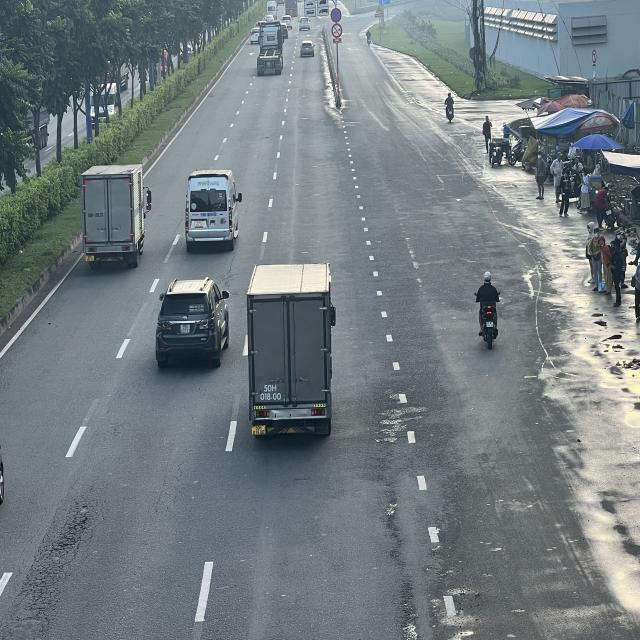car: (156, 276, 232, 367)
container: (256, 22, 284, 78)
truck: (244, 263, 336, 441), (83, 165, 154, 268)
van: (185, 172, 244, 252)
